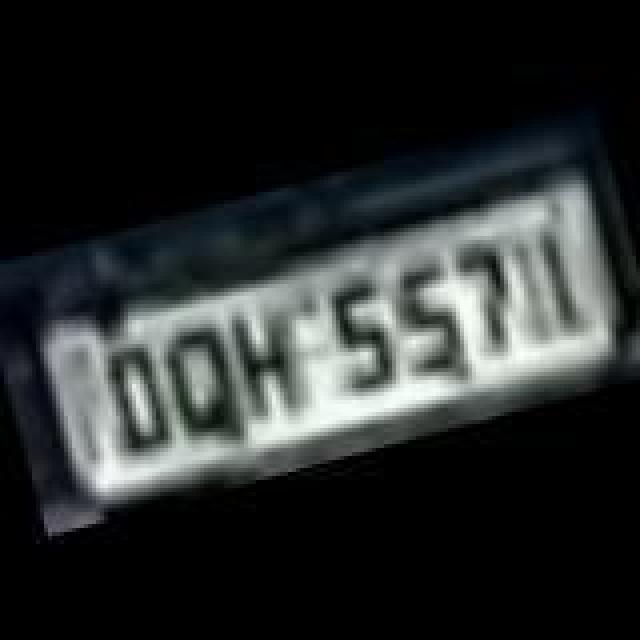1: (528, 218, 592, 334)
5: (314, 272, 406, 400), (386, 254, 478, 378)
7: (446, 240, 530, 368)
D: (94, 332, 178, 460)
H: (218, 298, 310, 430)
Q: (154, 318, 254, 450)
